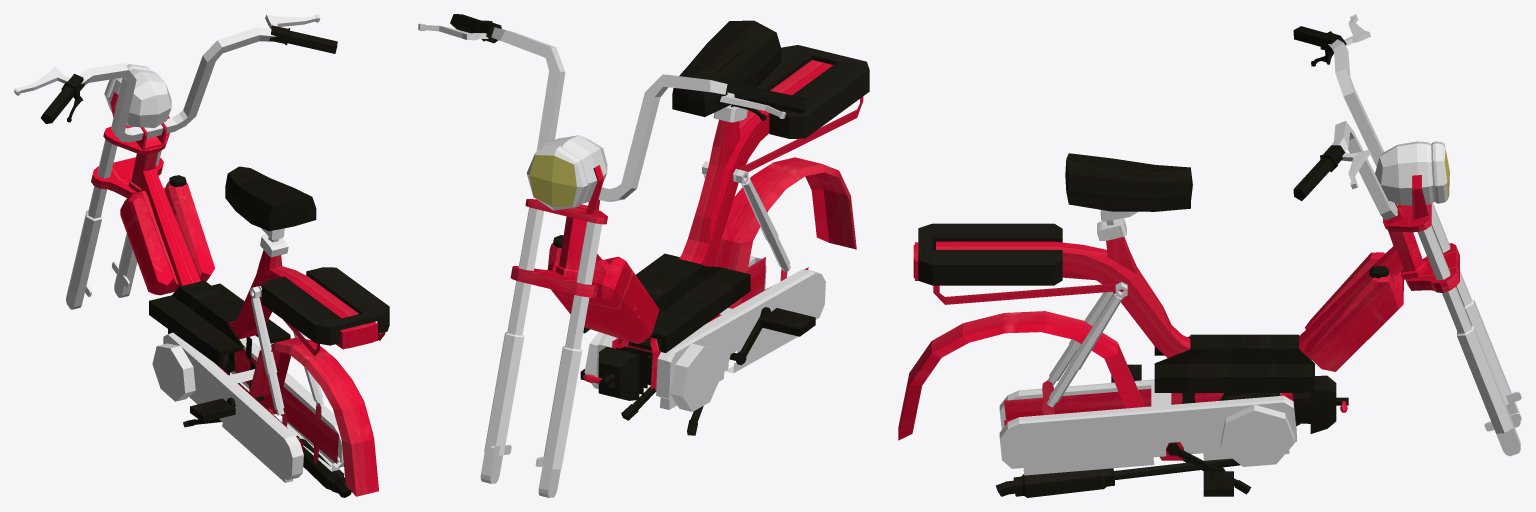
Rendered from body.glb.
3 renders of one model, left to right at view 1: azimuth 30°, elevation 25°; view 2: azimuth 150°, elevation 25°; view 3: azimuth 270°, elevation 25°, orthographic. The views are drawn at different scales.
Parts seen in each view (by area): view 1: Object_8, Object_9; view 2: Object_8, Object_9, Object_12; view 3: Object_8, Object_9.
Part boxes in pixels (left/top/right/bottom): Object_8: left=41, top=25, right=389, bottom=497; Object_9: left=14, top=14, right=343, bottom=482; Object_8: left=450, top=14, right=869, bottom=435; Object_9: left=418, top=23, right=825, bottom=497; Object_12: left=529, top=155, right=576, bottom=206; Object_8: left=898, top=26, right=1459, bottom=497; Object_9: left=999, top=14, right=1521, bottom=475.
Bounding box in the file's own units: 2.43 × 2.64 × 3.78.
3 materials, 1 textured.
